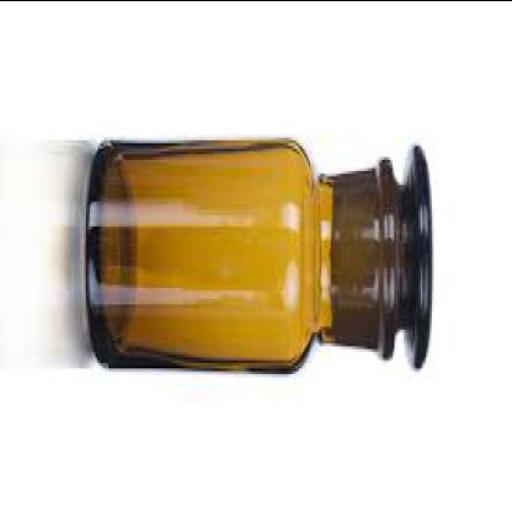glass: (88, 134, 434, 372)
